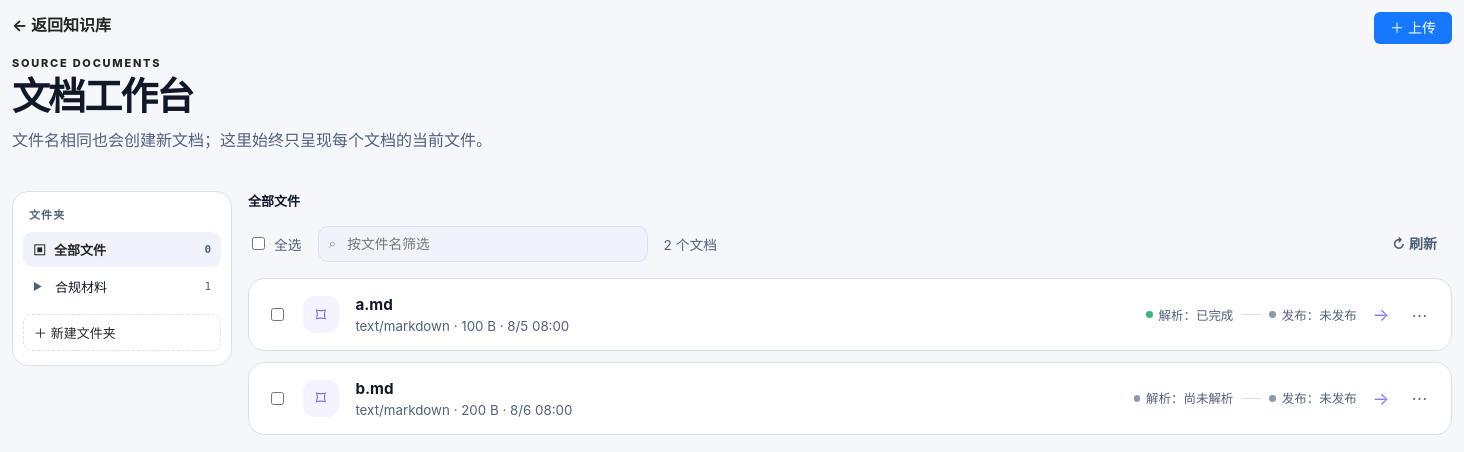
Test case: DocumentsView › 树状结构展示目录层级可展开收起
Expected: the text "2024年报" is not shown
Click the text with test id "folder-toggle-/合规材料".
click(38, 286)  # box [33,280,42,292]
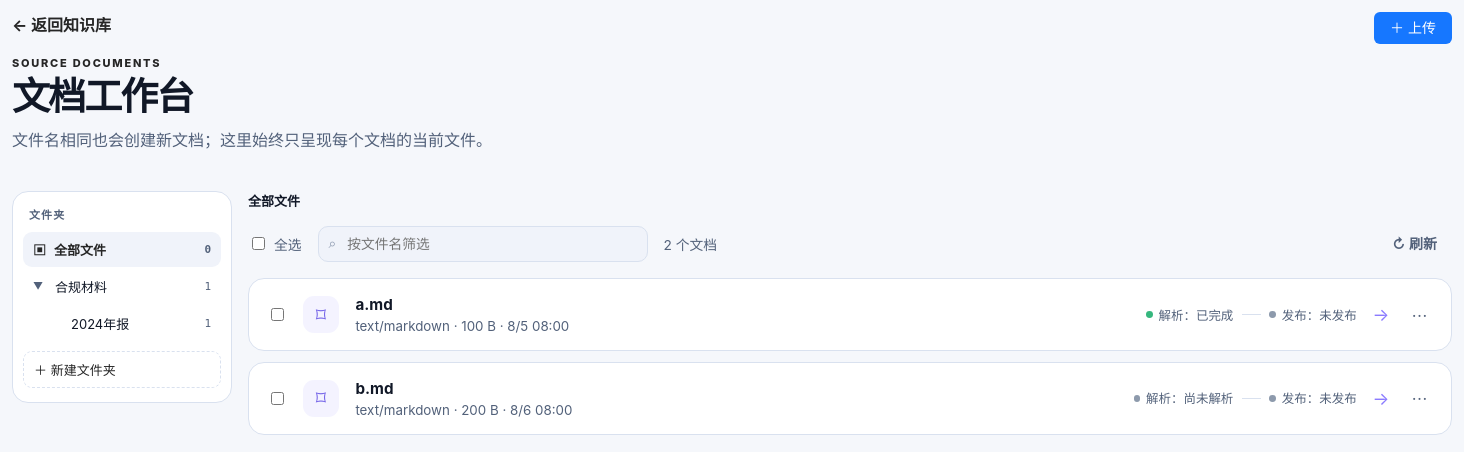
Expected: the text "2024年报" is shown, [71,316,129,332]
Click the text with test id "folder-toggle-/合规材料".
click(38, 286)  # box [33,280,43,292]
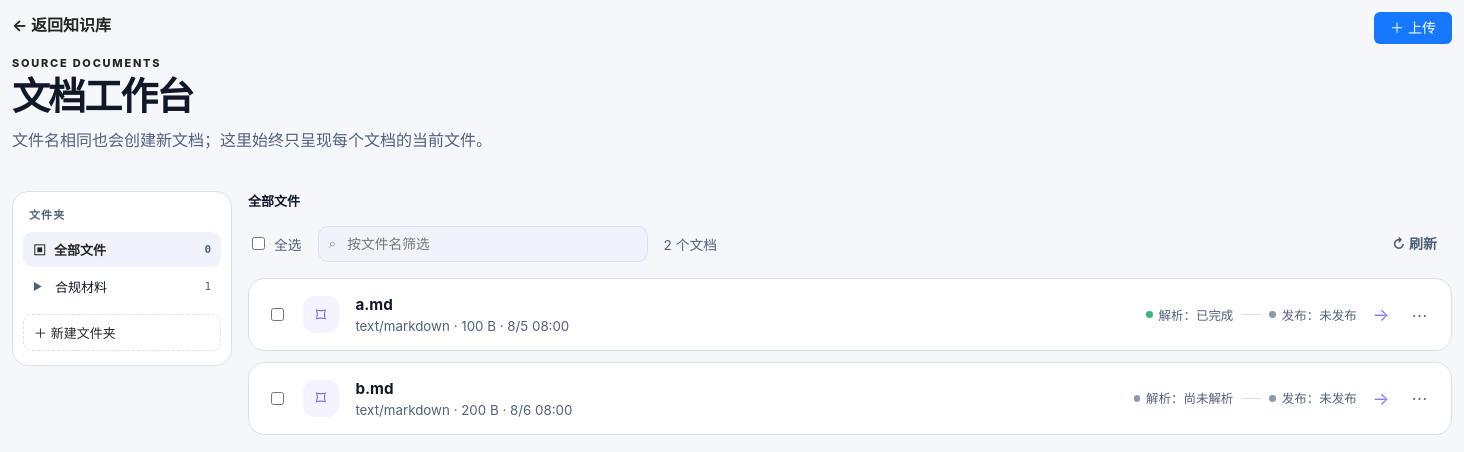
Expected: the text "2024年报" is gone
